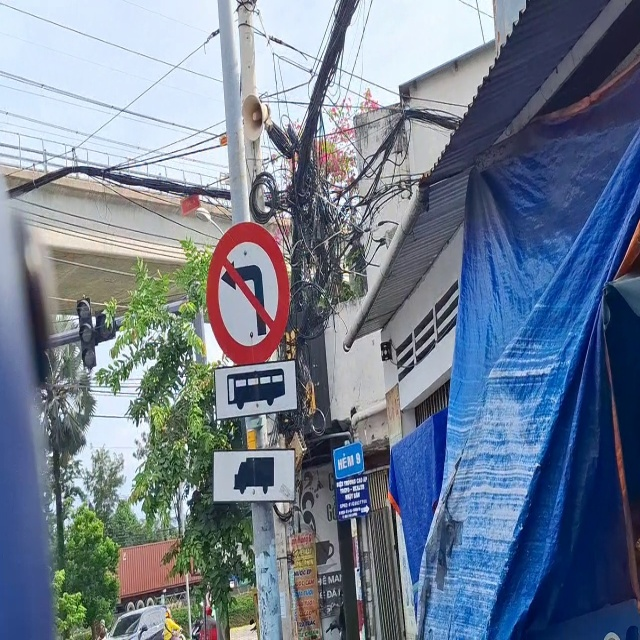cam queo trai: (189, 216, 303, 366)
